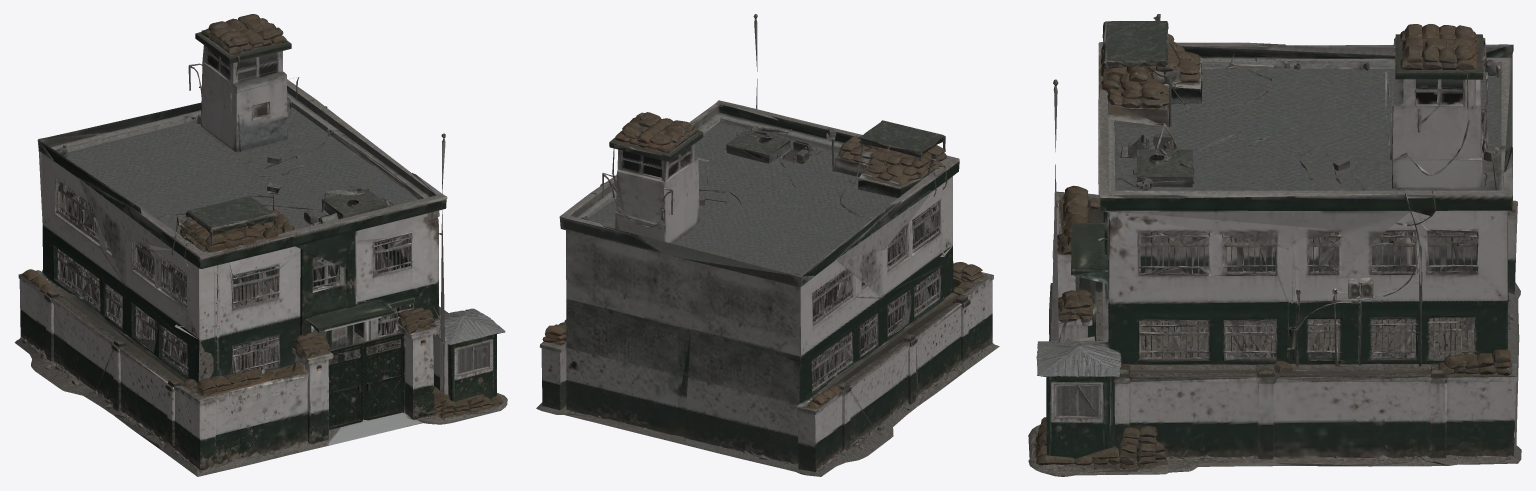
The picture shows the model from 3 angles, left to right: view 1: azimuth 30°, elevation 25°; view 2: azimuth 150°, elevation 25°; view 3: azimuth 270°, elevation 25°; orthographic projection. The views are drawn at different scales.
Visible parts, largest first — view 1: Mesh_0; view 2: Mesh_0; view 3: Mesh_0.
Part boxes in pixels (left/top/right/bottom): Mesh_0: left=14, top=14, right=507, bottom=476; Mesh_0: left=536, top=14, right=999, bottom=476; Mesh_0: left=1028, top=14, right=1521, bottom=476.
Size of the model in its own units: 1.84 by 1.58 by 1.9.
1 material, 1 textured.
